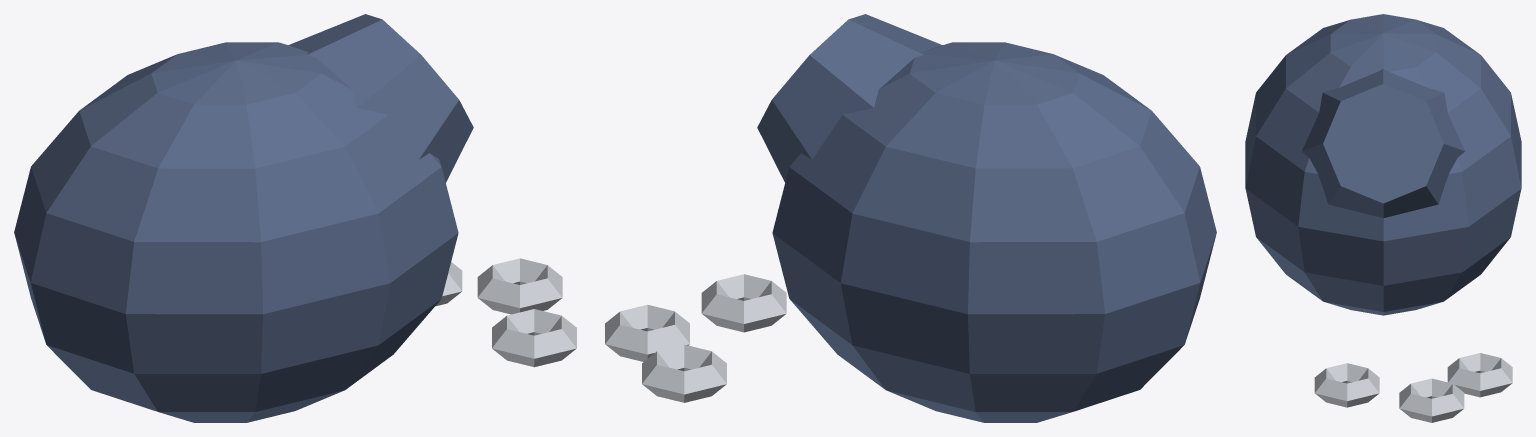
Rendered from fair_nut_bag.glb.
The picture shows the model from 3 angles, left to right: view 1: azimuth 30°, elevation 25°; view 2: azimuth 150°, elevation 25°; view 3: azimuth 270°, elevation 25°; orthographic projection. The views are drawn at different scales.
Visible parts, largest first — view 1: bag_nut_bag_cloth, nuts_needle_steel; view 2: bag_nut_bag_cloth, nuts_needle_steel; view 3: bag_nut_bag_cloth, nuts_needle_steel.
Part boxes in pixels (x1,y1,x2,y2): bag_nut_bag_cloth: (14, 14, 473, 422); nuts_needle_steel: (435, 258, 576, 367); bag_nut_bag_cloth: (757, 14, 1216, 422); nuts_needle_steel: (605, 274, 786, 402); bag_nut_bag_cloth: (1245, 14, 1521, 315); nuts_needle_steel: (1314, 353, 1512, 422).
Size of the model in its own units: 0.411 by 0.2437 by 0.2283.
